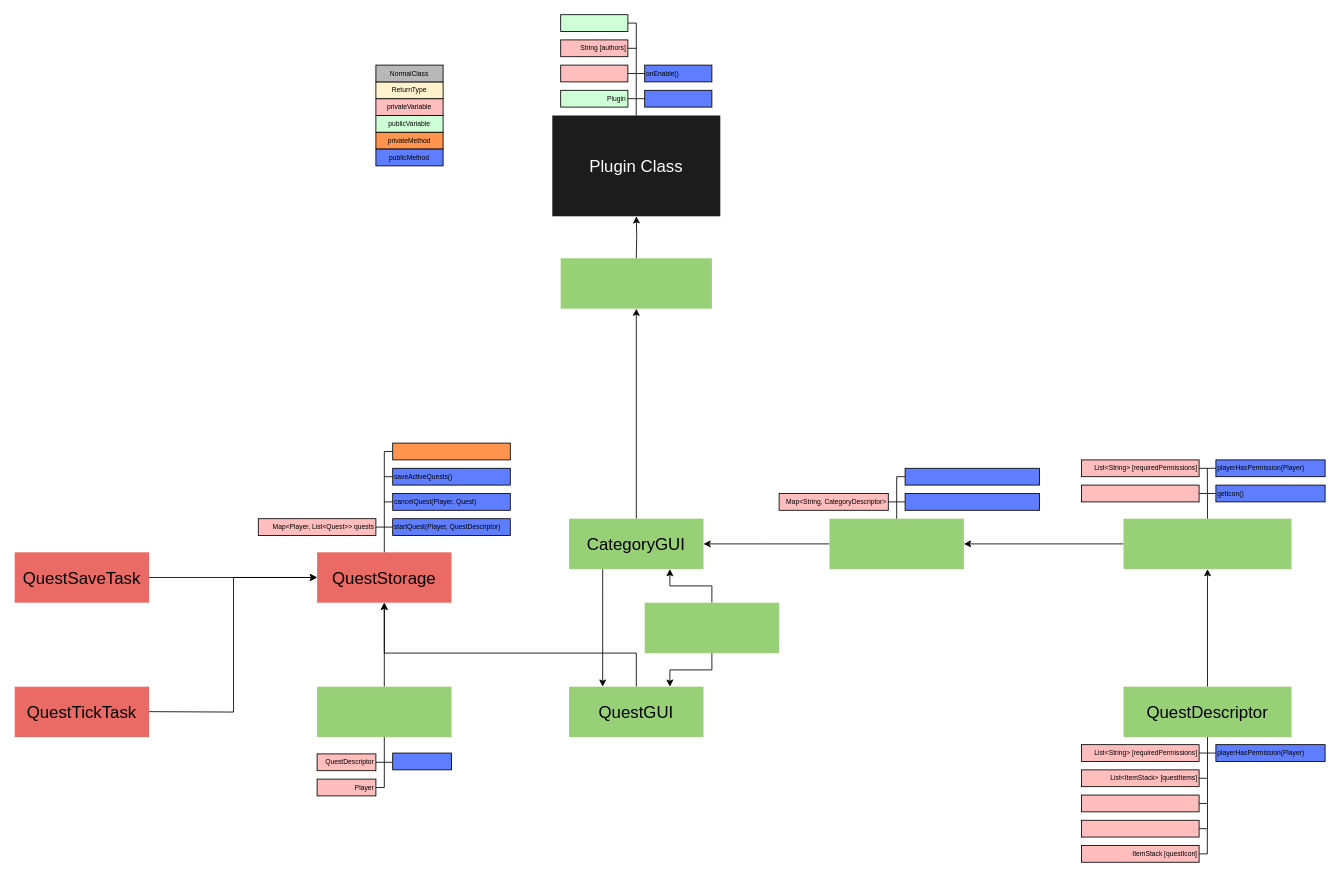
This 1340x877 diagram has some shape labels left out. The shapes that lost their labels are listed below. From the top down, each one's centre as x and y in pixels, then its label:
the point at 594,23: ConfigManager
the point at 594,73: String [version]
the point at 678,98: onDisable()
the point at 635,283: CommandHandler
the point at 451,451: saveQuest(Player)
the point at 972,476: getCategoryDescriptors()
the point at 1140,493: ItemStack [categoryIcon]
the point at 972,501: load()
the point at 896,543: CategoryConfig
the point at 1207,543: CategoryDescriptor
the point at 711,627: BaseGUI
the point at 384,711: Quest
the point at 422,761: attemptComplete()
the point at 1140,803: List<ItemStack> [rewardItems]
the point at 1140,828: List<ItemStack> [rewardPermissions]
